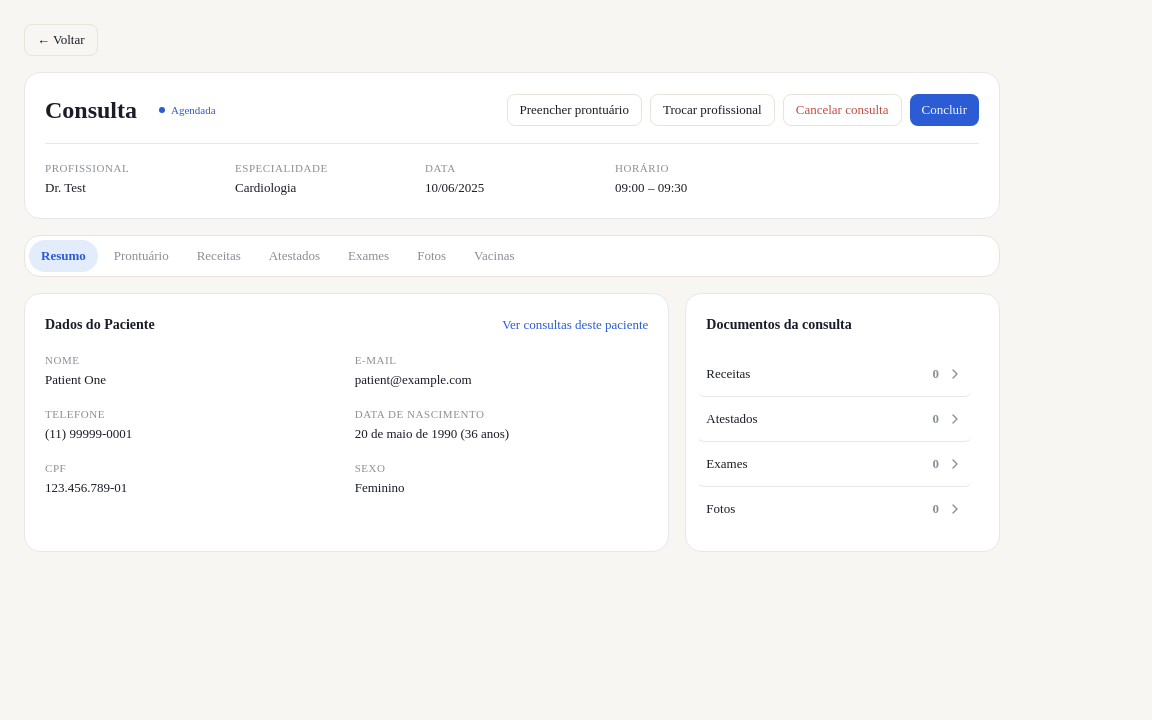
it: AppointmentDetailPage (integration) › shows 422 error when complete fails
Click the button with test id "appointment-detail-complete-button".
click(944, 110)  # box [910,94,979,126]
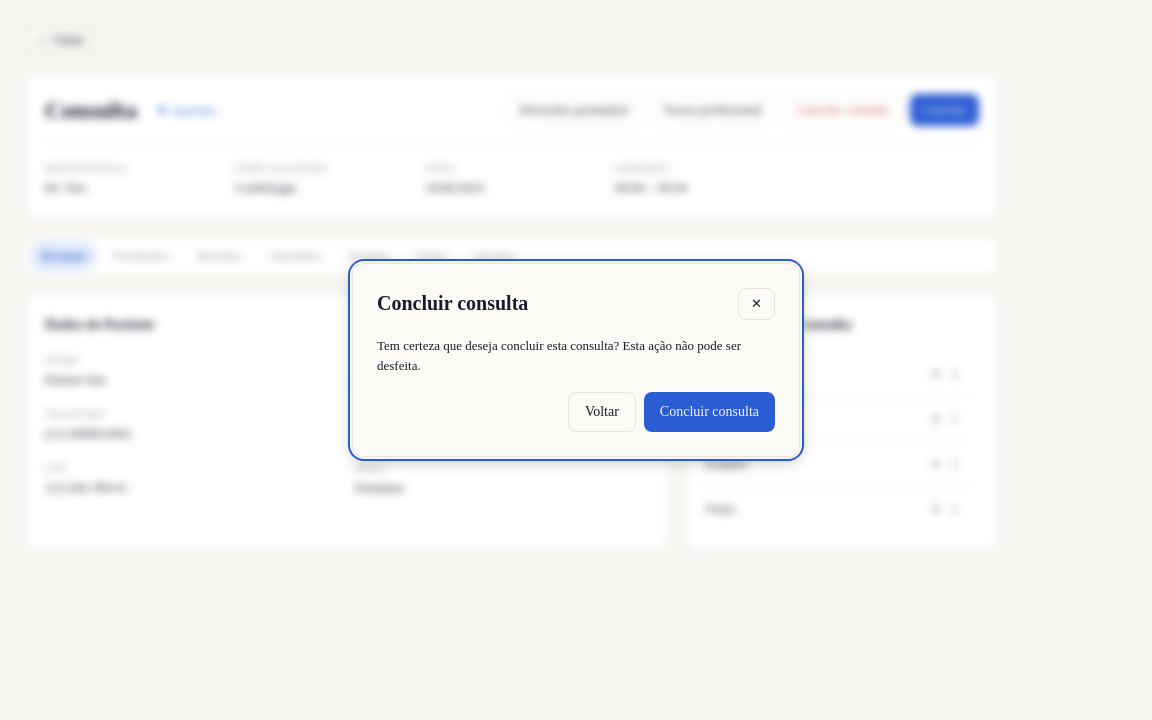
Click the button with test id "complete-dialog-confirm".
click(709, 412)  # box [644,392,775,432]
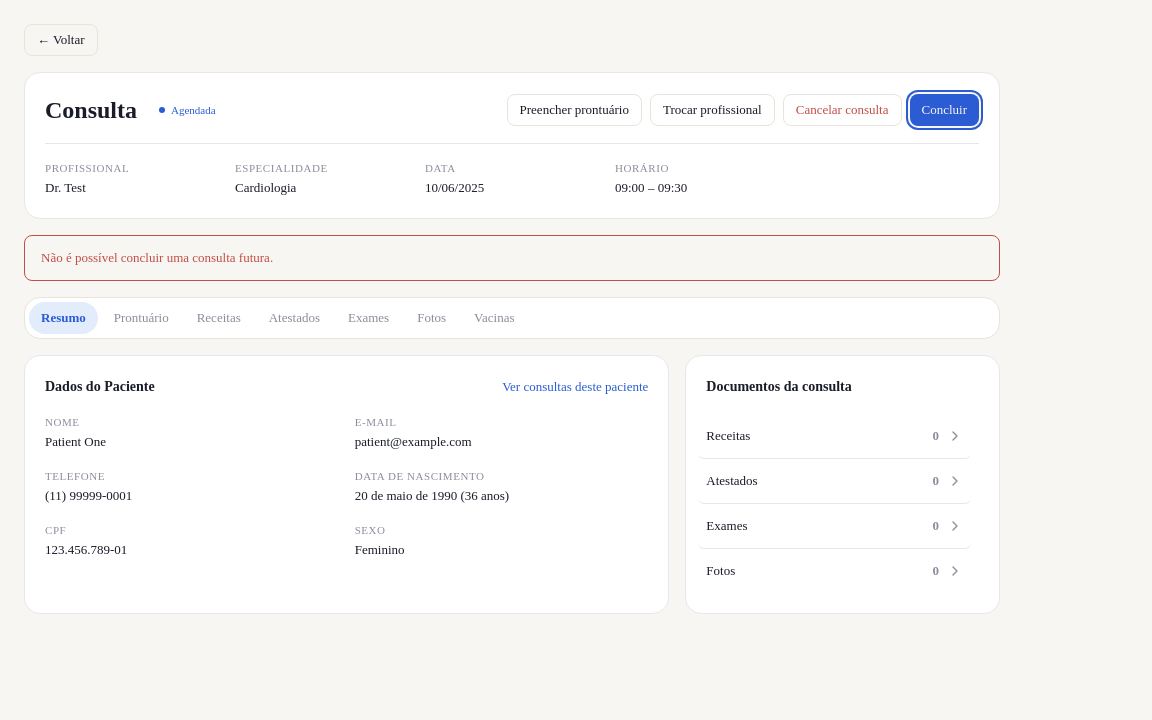
Expected: the message with test id "appointment-detail-complete-error" reads "Não é possível concluir uma consulta futura.", [41,250,273,265]
